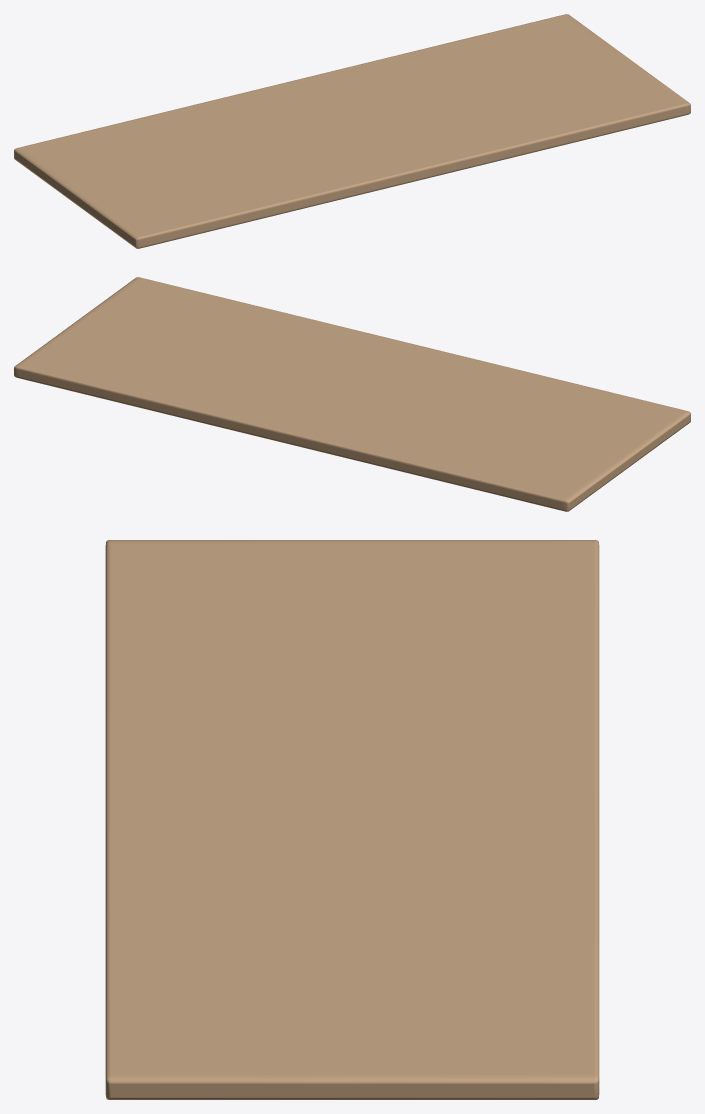
Rendered from WoodenPlank.fbx.
3 renders of one model, top to bottom at view 1: azimuth 30°, elevation 25°; view 2: azimuth 150°, elevation 25°; view 3: azimuth 270°, elevation 25°, orthographic. The views are drawn at different scales.
Visible parts, largest first — view 1: WoodenPlank; view 2: WoodenPlank; view 3: WoodenPlank.
Part boxes in pixels (bbox=[...]): WoodenPlank: bbox=[14, 14, 690, 248]; WoodenPlank: bbox=[14, 277, 690, 511]; WoodenPlank: bbox=[105, 540, 599, 1099].
Bounding box in the file's own units: 2284 × 43.99 × 880.
